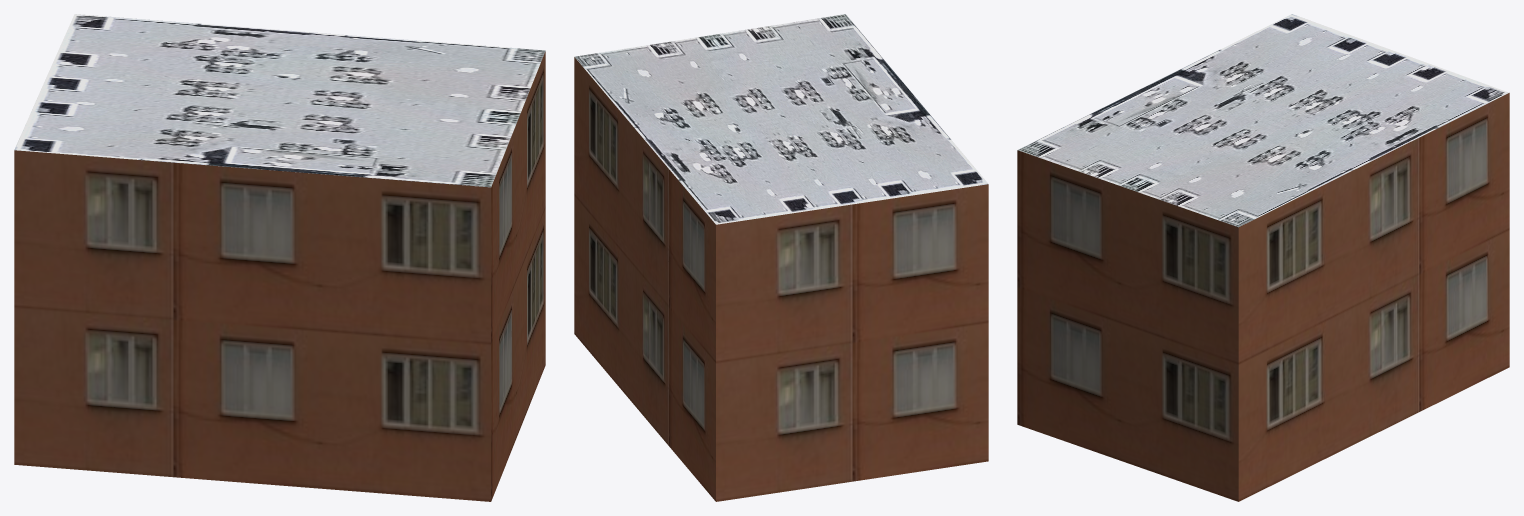
Rendered from ResTex__1848.fbx.
The picture shows the model from 3 angles, left to right: view 1: azimuth 30°, elevation 25°; view 2: azimuth 150°, elevation 25°; view 3: azimuth 270°, elevation 25°; orthographic projection. The views are drawn at different scales.
Parts seen in each view (by area): view 1: CityEngineMaterial_20_m, CityEngineMaterial_8_m; view 2: CityEngineMaterial_20_m, CityEngineMaterial_8_m; view 3: CityEngineMaterial_20_m, CityEngineMaterial_8_m.
Part boxes in pixels (x1,y1,x2,y2): CityEngineMaterial_20_m: (14,51,545,501); CityEngineMaterial_8_m: (14,14,545,187); CityEngineMaterial_20_m: (574,57,988,501); CityEngineMaterial_8_m: (574,14,988,224); CityEngineMaterial_20_m: (1017,93,1509,501); CityEngineMaterial_8_m: (1017,14,1508,227).
Size of the model in its own units: 10 by 6 by 9.74.
Materials: 2 (2 with a texture image).
